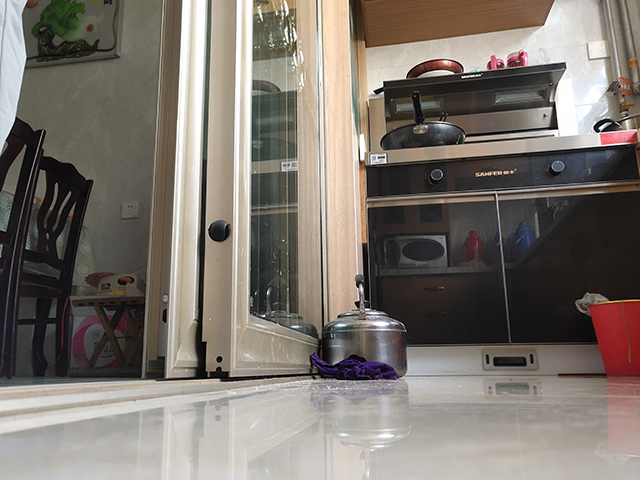stool: (1, 116, 95, 381), (64, 294, 147, 379)
trashcan: (587, 298, 640, 379)
